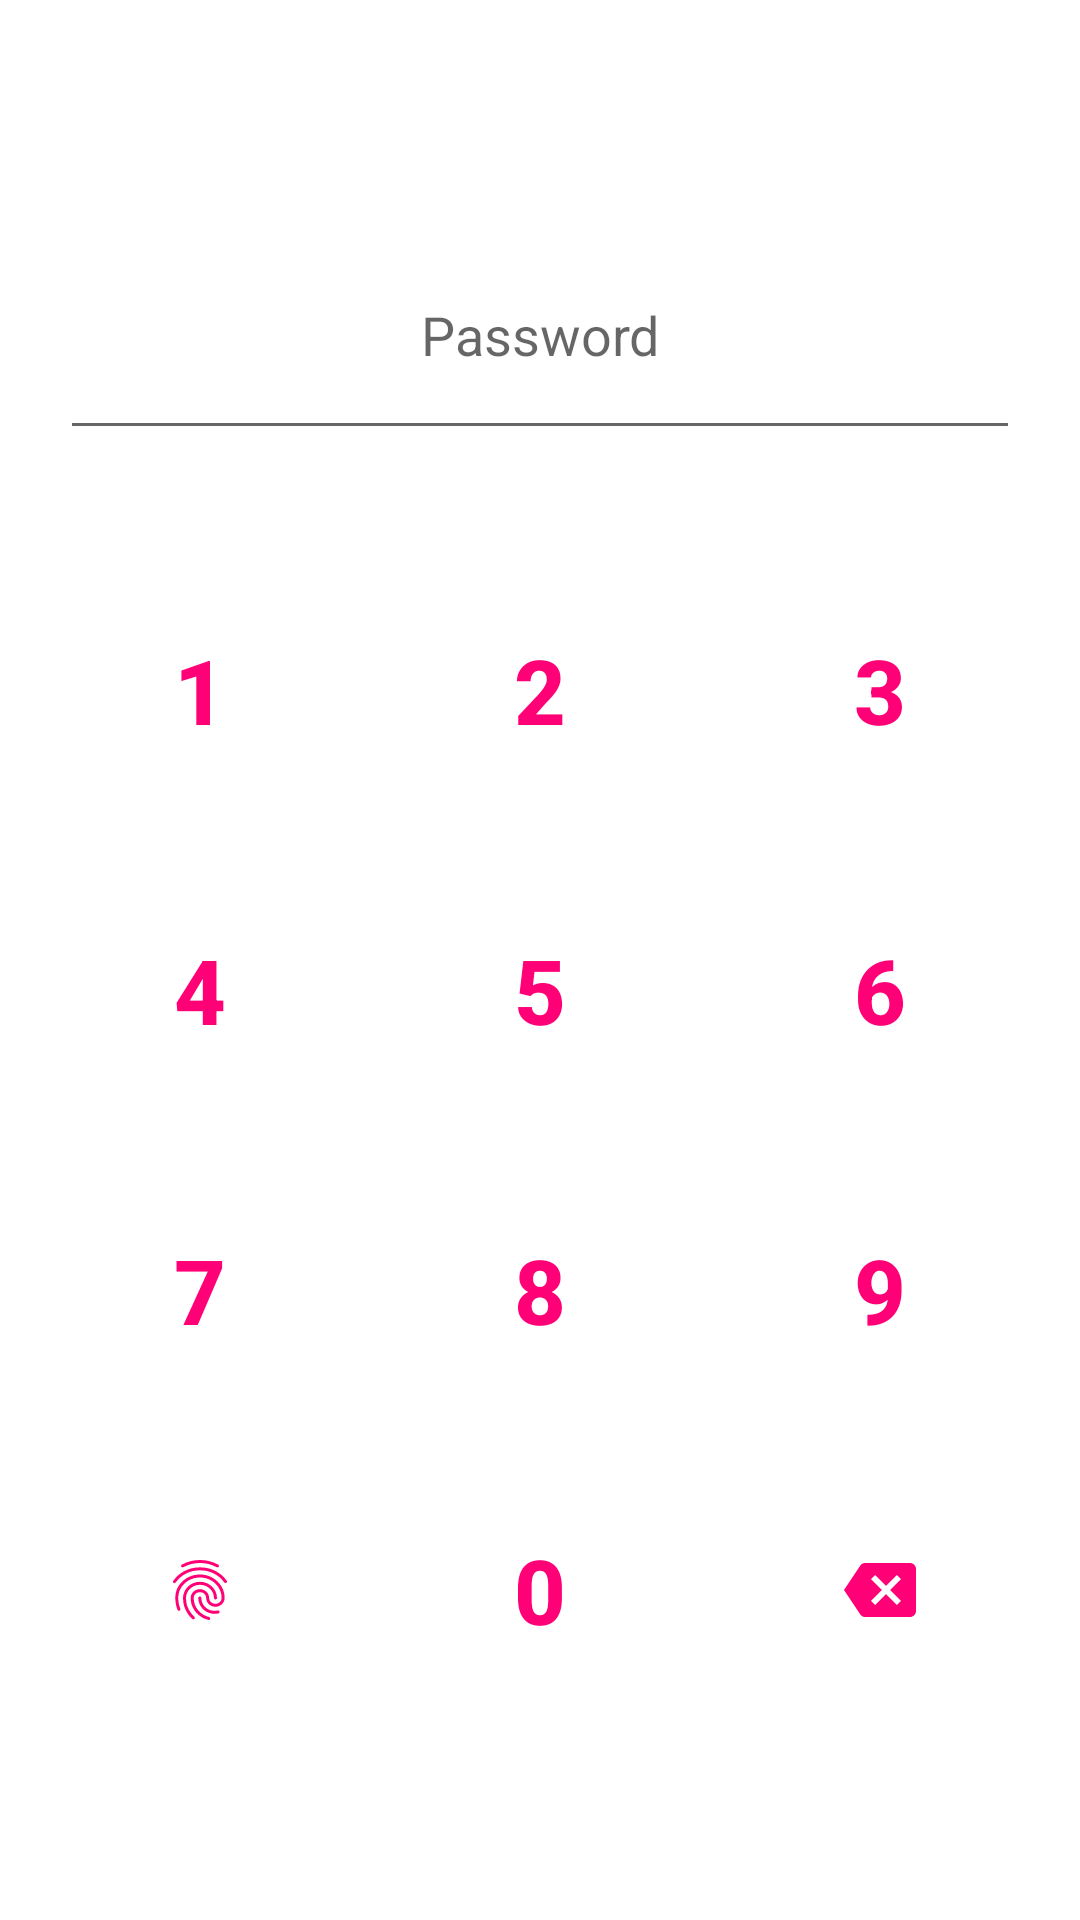

Point at icon controls on the screen. Image size 1080×1920, points as [x,y].
backspace: [880,1590]
fingerprint: [200,1590]
